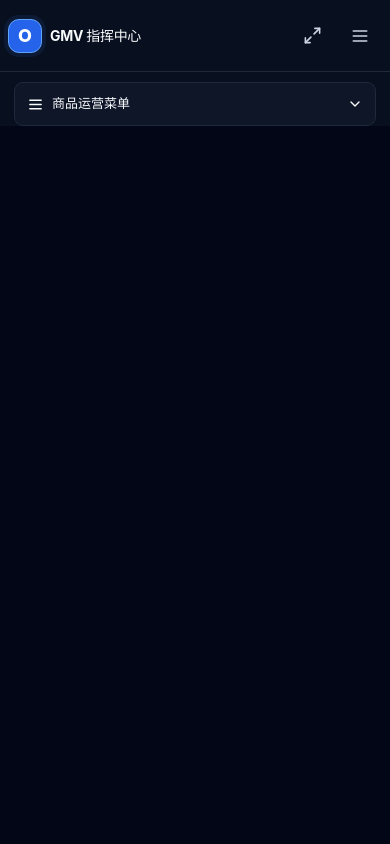
Test: OperationsCenterLayout › marks the task page active and keeps the mobile menu keyboard-operable
The image size is (390, 844).
Click the button "商品运营菜单" at (91, 103), box [14, 82, 376, 126]
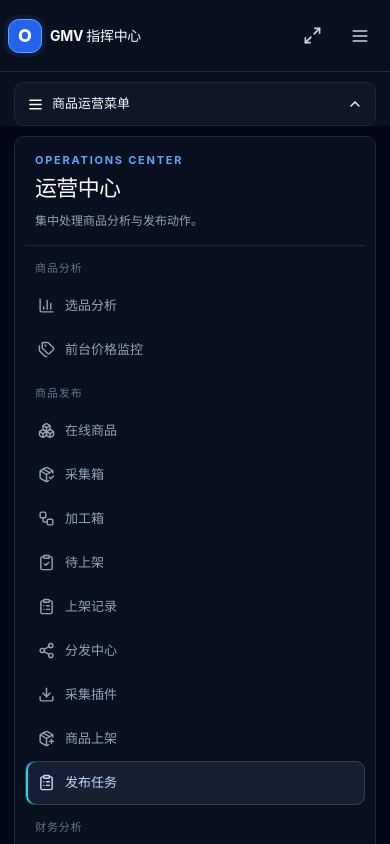
Now the button "商品运营菜单" is expanded, box [14, 82, 376, 126]
